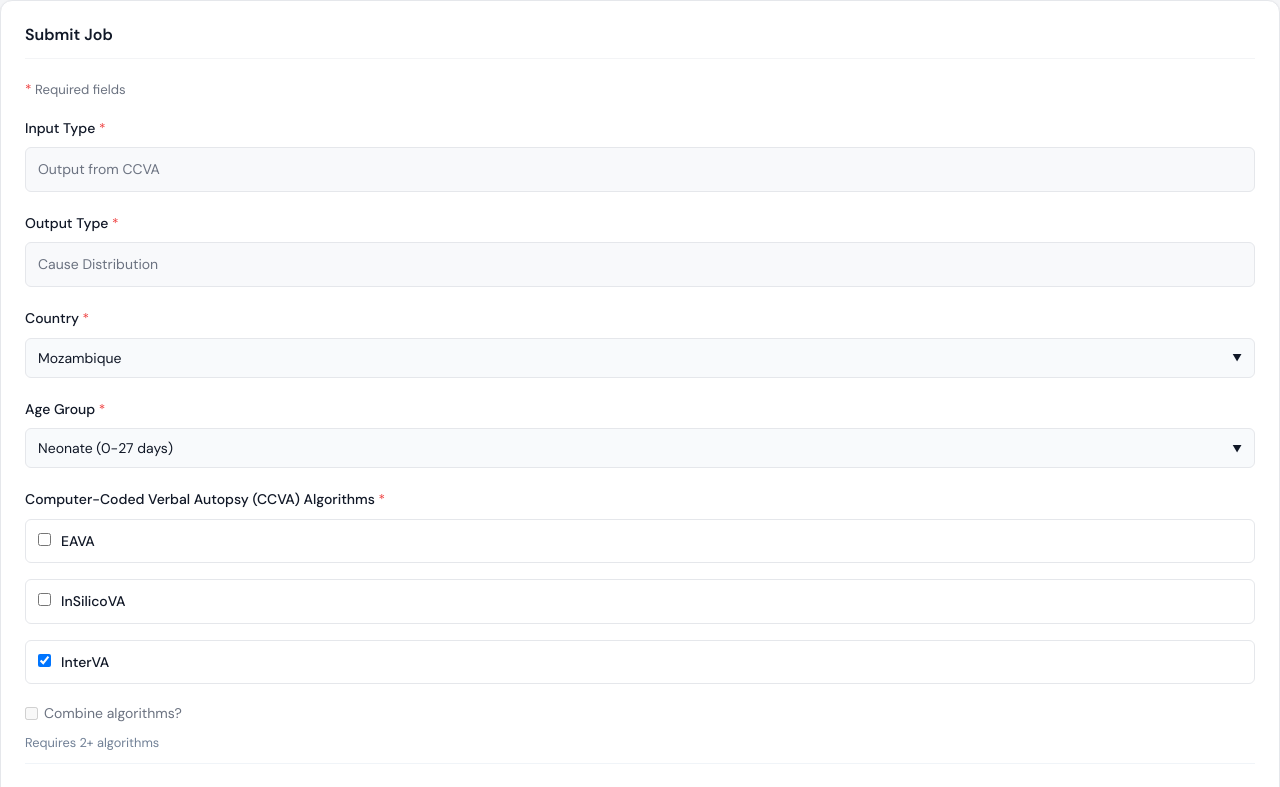
Test: Calibration Only — algorithms-first flow › respects sticky-uncheck: once user unchecks ensemble, do not auto-re-enable on re-crossing
Click the checkbox labelled "InSilicoVA" at (44, 600), box [38,594,51,606]
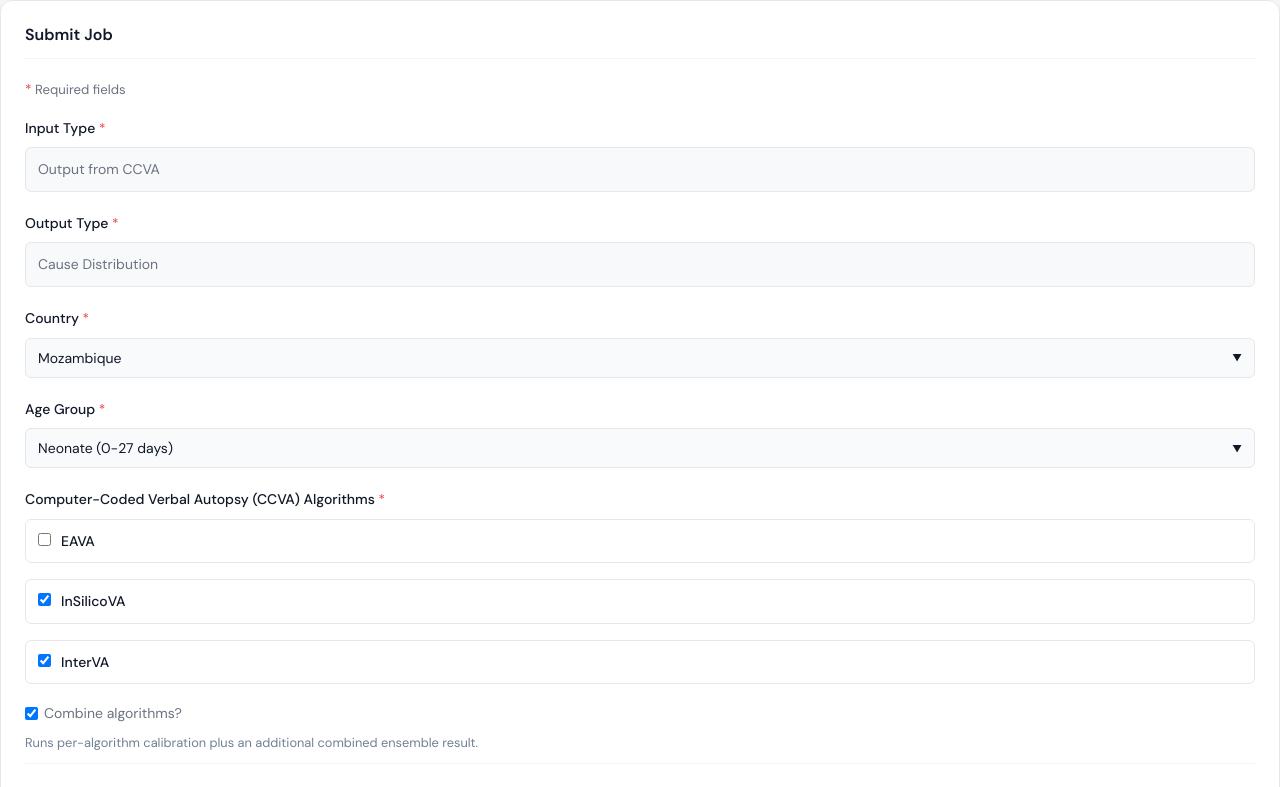
Expected: the checkbox labelled "Combine algorithms?" is checked
Click the checkbox labelled "Combine algorithms?" at (32, 713), box [25,707,38,720]
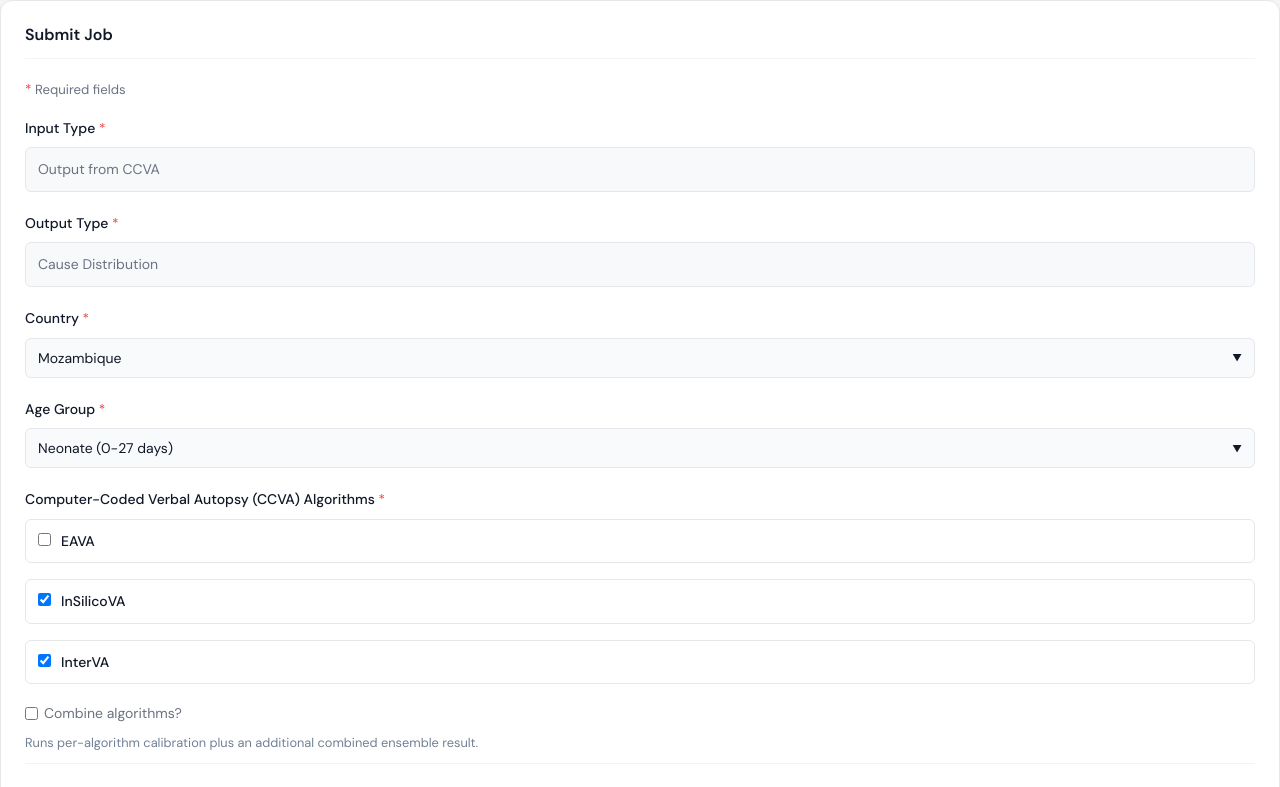
Expected: the checkbox labelled "Combine algorithms?" is not checked, [25,707,38,720]
Click the checkbox labelled "InSilicoVA" at (44, 600), box [38,594,51,606]
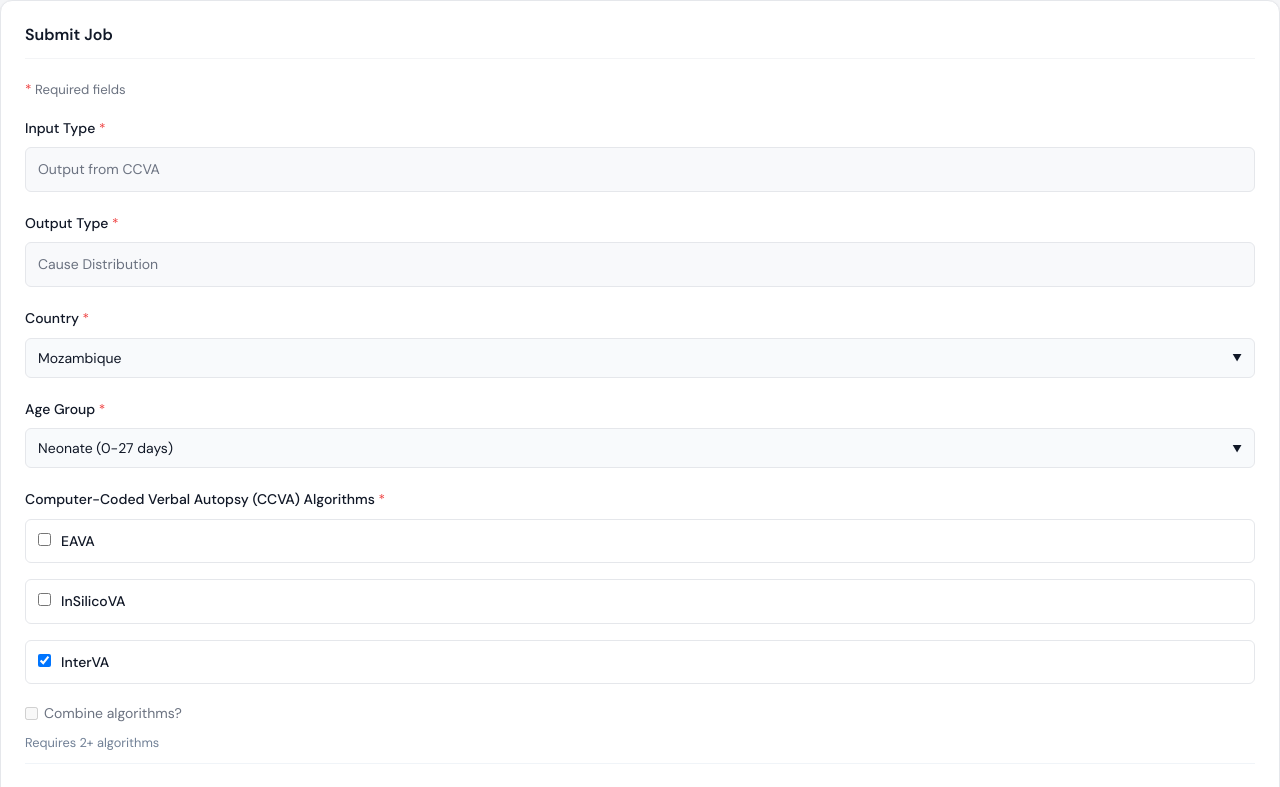
Expected: the checkbox labelled "Combine algorithms?" is disabled, [25,707,38,720]
Click the checkbox labelled "InSilicoVA" at (44, 600), box [38,594,51,606]
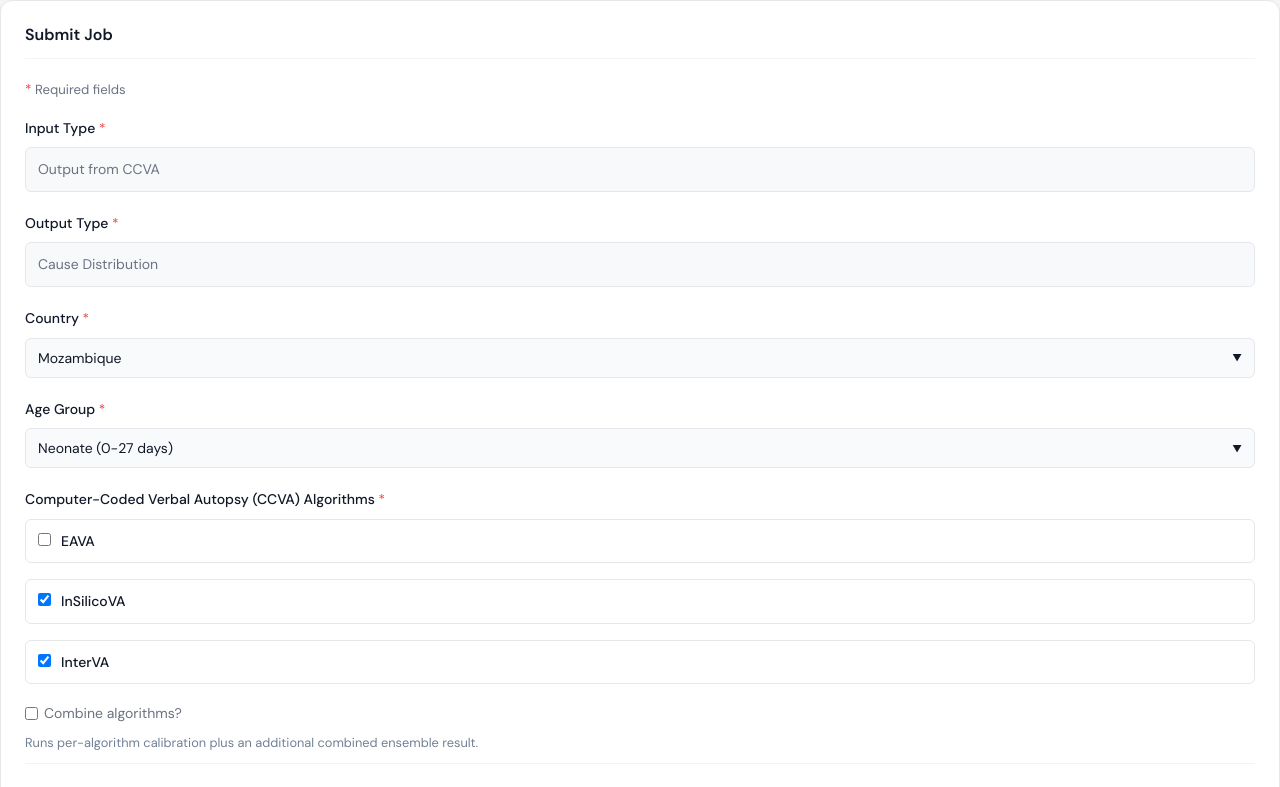
Expected: the checkbox labelled "Combine algorithms?" is not checked, [25,707,38,720]
Expected: the checkbox labelled "Combine algorithms?" is enabled, [25,707,38,720]
